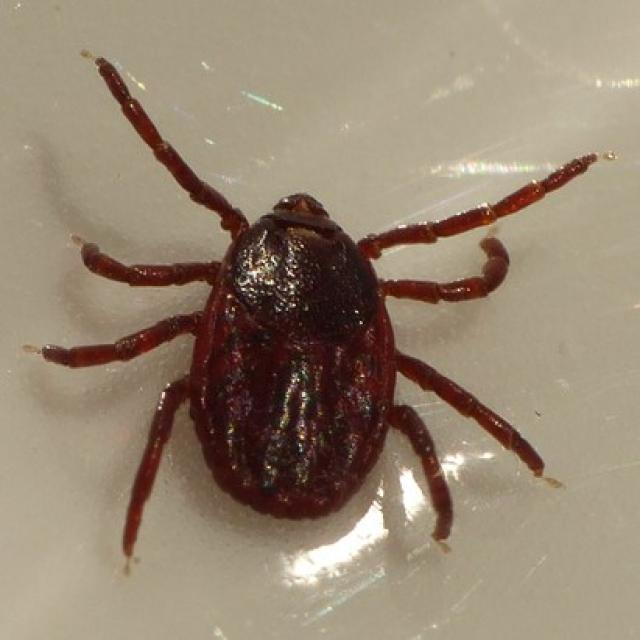Rhipicephalus Sanguineus-F: (39, 60, 598, 561)
